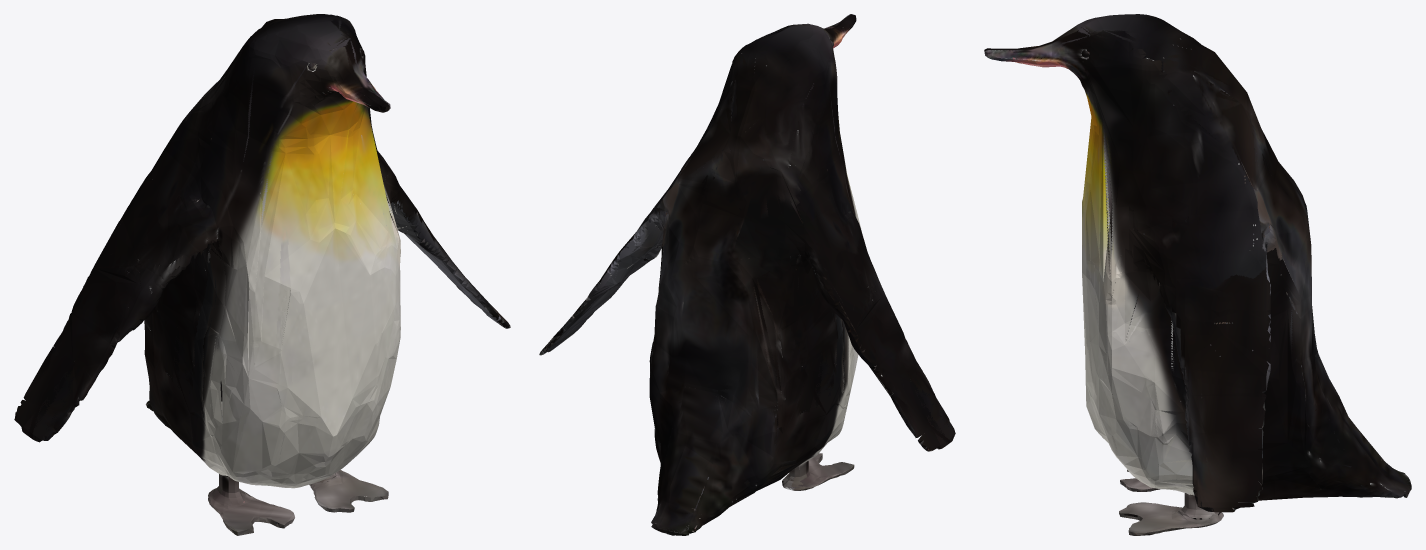
The model's file is penguin.fbx.
3 views of the same model, side by side, from view 1: azimuth 30°, elevation 25°; view 2: azimuth 150°, elevation 25°; view 3: azimuth 270°, elevation 25° (orthographic). The views are drawn at different scales.
Visible parts, largest first — view 1: penguin; view 2: penguin; view 3: penguin.
Part boxes in pixels (x1=…): penguin: x1=14, y1=14, x2=510, y2=535; penguin: x1=539, y1=14, x2=955, y2=535; penguin: x1=984, y1=14, x2=1411, y2=535.
Bounding box in the file's own units: 190 × 190 × 155.
3 materials, 3 textured.
